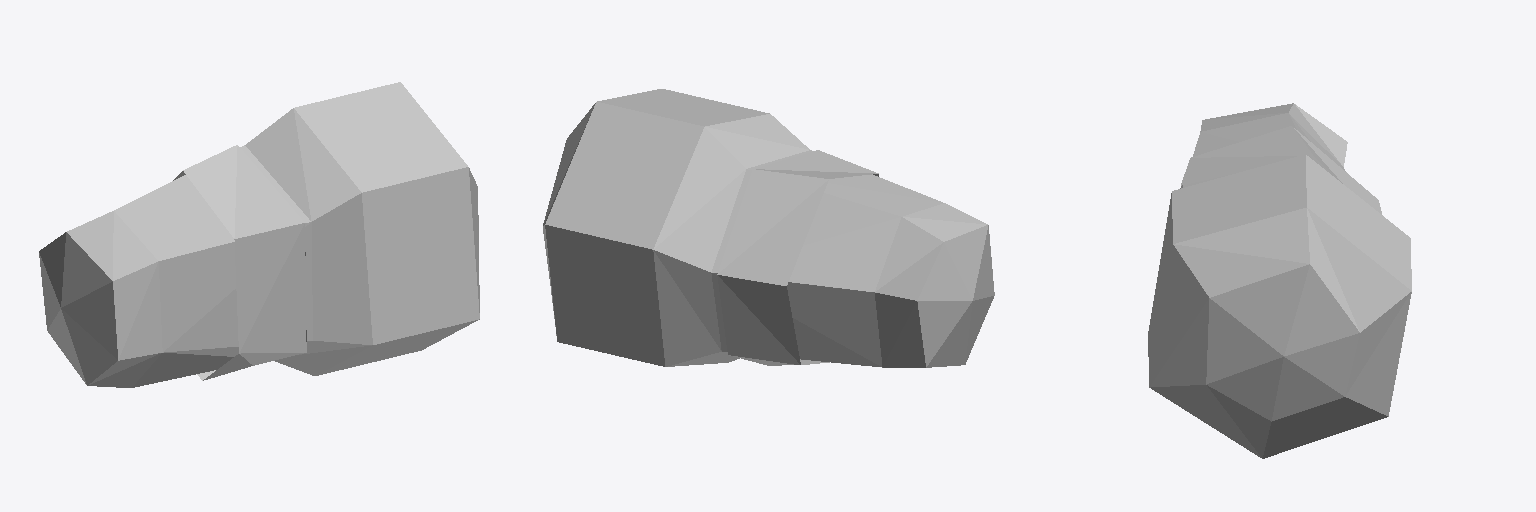
The model's file is MacmeshRightArm1_rightArm1.obj.
3 views of the same model, side by side, from view 1: azimuth 30°, elevation 25°; view 2: azimuth 150°, elevation 25°; view 3: azimuth 270°, elevation 25° (orthographic).
Visible parts, largest first — view 1: node_Scene_139_mesh_mesh0; view 2: node_Scene_139_mesh_mesh0; view 3: node_Scene_139_mesh_mesh0.
Boxes of the visible parts, x1=… form: node_Scene_139_mesh_mesh0: x1=39, y1=82, x2=479, y2=387; node_Scene_139_mesh_mesh0: x1=543, y1=89, x2=994, y2=367; node_Scene_139_mesh_mesh0: x1=1148, y1=103, x2=1411, y2=458.
Size of the model in its own units: 0.3616 by 0.2186 by 0.2068.